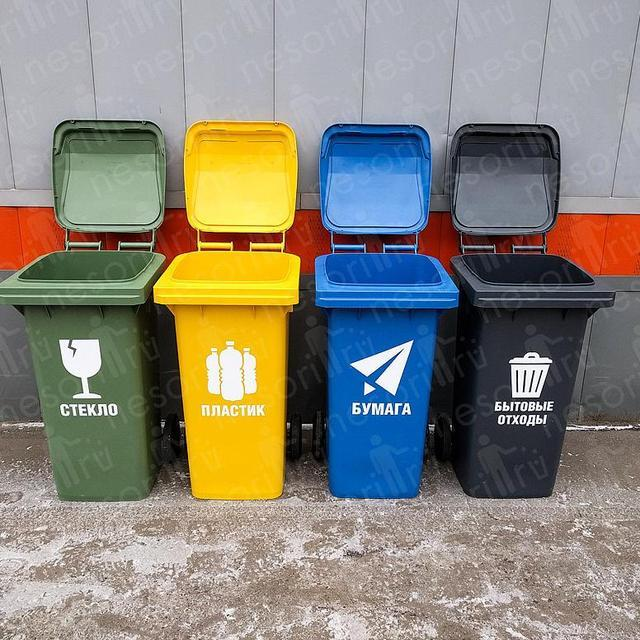Trash_Can_Empty: (0, 248, 168, 500), (452, 252, 616, 500), (154, 249, 302, 500), (316, 252, 461, 497)
